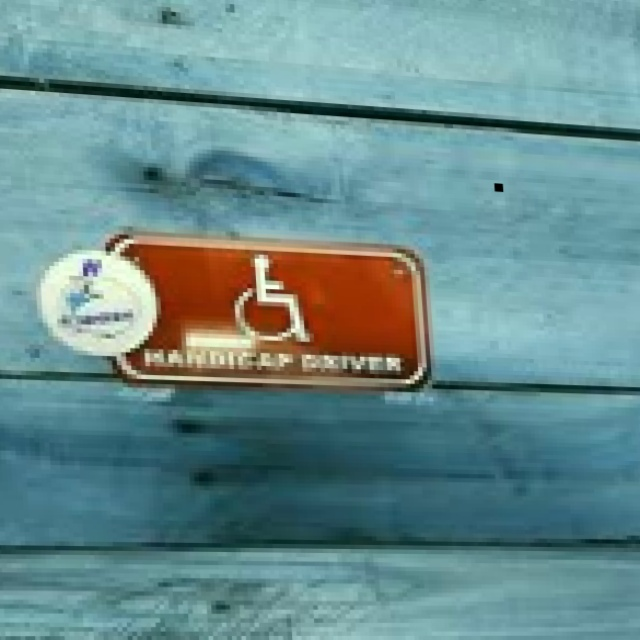ISA: (224, 251, 317, 348)
